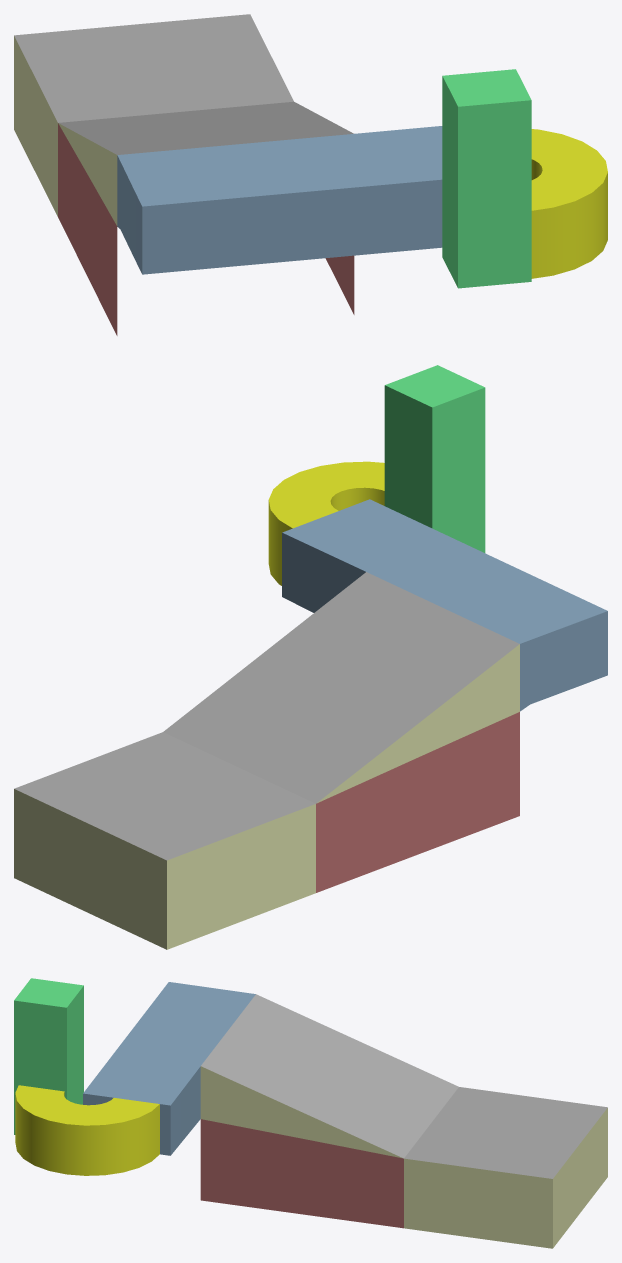
Rendered from Close_Lower_Wall.fbx.
3 views of the same model, one above another, from view 1: azimuth 30°, elevation 25°; view 2: azimuth 150°, elevation 25°; view 3: azimuth 270°, elevation 25° (orthographic). The views are drawn at different scales.
Parts seen in each view (by area): view 1: Close_Lower_Wall_low; view 2: Close_Lower_Wall_low; view 3: Close_Lower_Wall_low.
Boxes of the visible parts, bbox=[...] form: Close_Lower_Wall_low: bbox=[14, 14, 607, 335]; Close_Lower_Wall_low: bbox=[14, 365, 607, 949]; Close_Lower_Wall_low: bbox=[14, 978, 607, 1248].
Size of the model in its own units: 1837 by 1300 by 3206.
